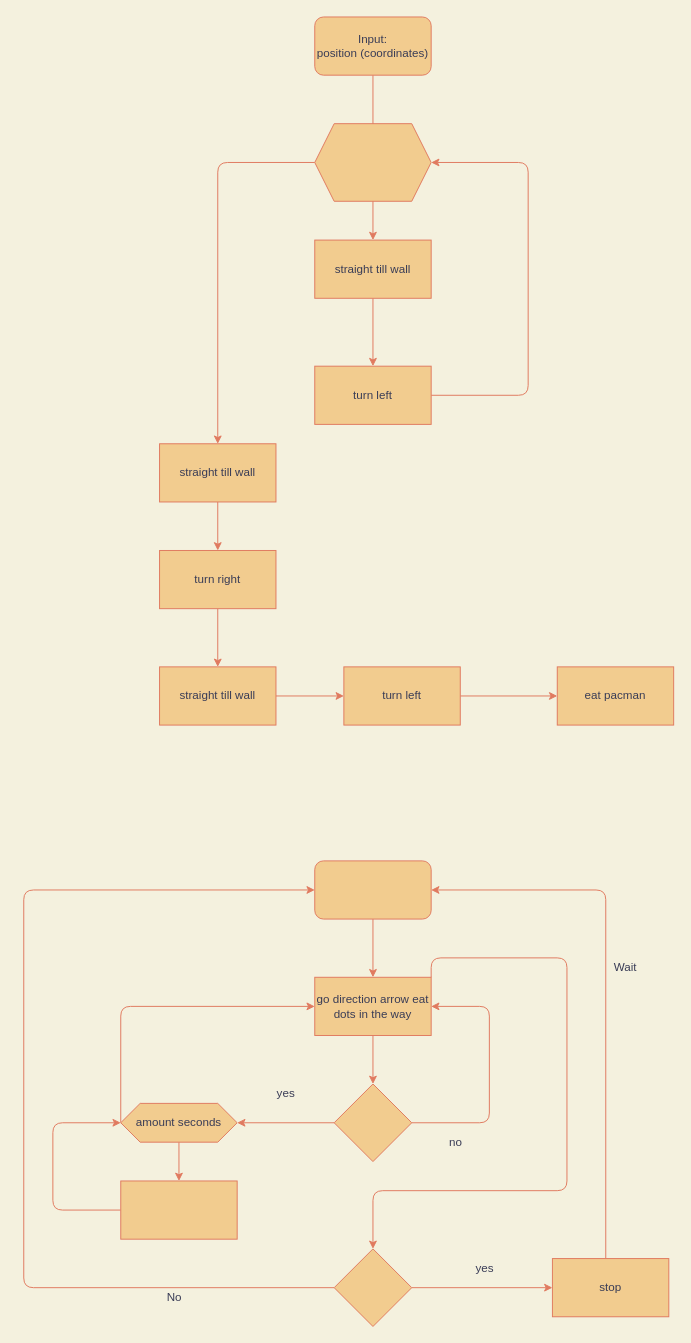
Image size: 691x1343. Some labels were removed from this diagram. Here are the shapes that lost their labels. From the top down, the centre of each, then its label:
At pixel 372 162: "twice".
At pixel 372 889: "(Pacman)Input: arrow".
At pixel 372 1122: "Pill".
At pixel 178 1209: "go direction eat ghosts and dots".
At pixel 372 1287: "wall".
